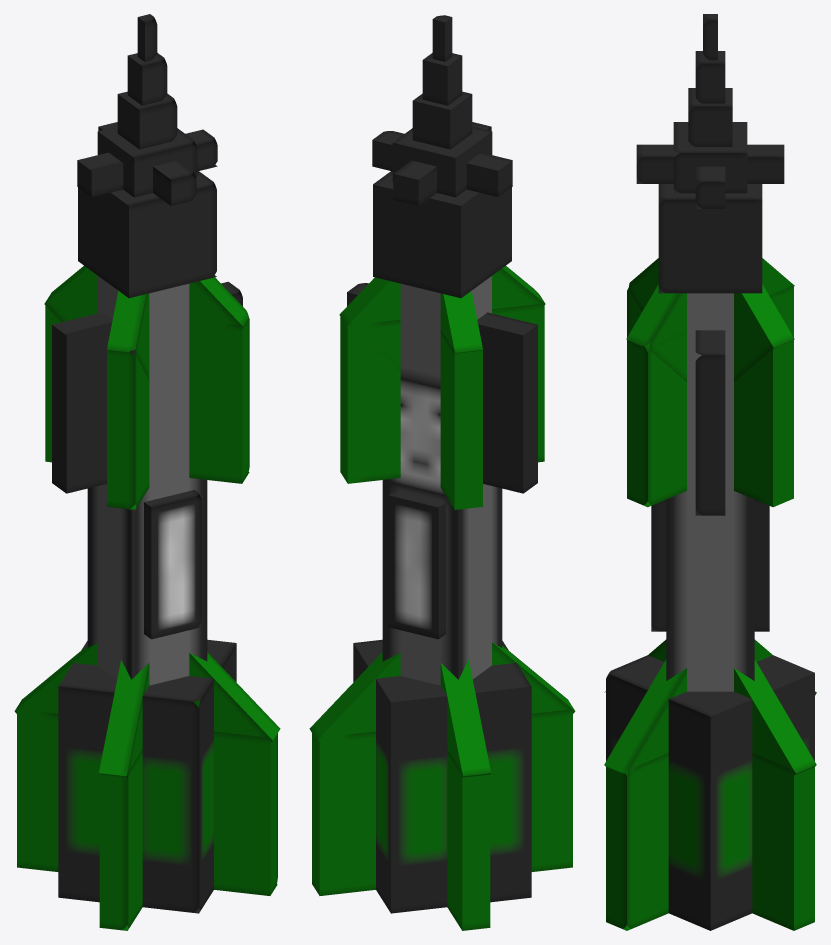
The model's file is missile_debilitation.obj.
The picture shows the model from 3 angles, left to right: view 1: azimuth 30°, elevation 25°; view 2: azimuth 150°, elevation 25°; view 3: azimuth 270°, elevation 25°; orthographic projection.
Parts seen in each view (by area): view 1: PROPULSOR_MODULE, MAIN_MISSILE_MODULE, WING_B_B_1, WARHEAD_1, WINGTWIDTH, WING_T_B_2, SCREEN, WING_B_A_1, WING_T_A_2, WING_T_B_1, WING_B_B_2, WING_B_A_2 (+7 smaller); view 2: PROPULSOR_MODULE, MAIN_MISSILE_MODULE, WING_B_A_1, WARHEAD_1, WING_T_A_2, WINGTWIDTH, SCREEN, WING_B_B_1, WING_T_B_2, WING_B_A_2, WING_T_A_1, WING_B_B_2 (+7 smaller); view 3: PROPULSOR_MODULE, MAIN_MISSILE_MODULE, WARHEAD_1, WING_B_A_1, WING_B_B_1, WING_T_B_2, WING_T_A_2, WINGTWIDTH, WING_T_A_1, WING_B_B_2, WING_B_A_2, SCREEN (+7 smaller).
Boxes of the visible parts, x1=… form: PROPULSOR_MODULE: x1=58, y1=639, x2=236, y2=913; MAIN_MISSILE_MODULE: x1=87, y1=276, x2=207, y2=685; WING_B_B_1: x1=17, y1=709, x2=277, y2=895; WARHEAD_1: x1=78, y1=171, x2=216, y2=298; WINGTWIDTH: x1=52, y1=281, x2=242, y2=493; WING_T_B_2: x1=45, y1=305, x2=249, y2=483; SCREEN: x1=144, y1=490, x2=201, y2=639; WING_B_A_1: x1=99, y1=749, x2=142, y2=930; WING_T_A_2: x1=107, y1=347, x2=149, y2=509; WING_T_B_1: x1=44, y1=266, x2=248, y2=370; WING_B_B_2: x1=14, y1=642, x2=280, y2=742; WING_B_A_2: x1=99, y1=660, x2=149, y2=777; PROPULSOR_MODULE: x1=353, y1=639, x2=531, y2=913; MAIN_MISSILE_MODULE: x1=382, y1=276, x2=502, y2=685; WING_B_A_1: x1=312, y1=709, x2=572, y2=895; WARHEAD_1: x1=373, y1=171, x2=511, y2=298; WING_T_A_2: x1=340, y1=303, x2=544, y2=483; WINGTWIDTH: x1=347, y1=283, x2=537, y2=493; SCREEN: x1=388, y1=490, x2=445, y2=639; WING_B_B_1: x1=447, y1=749, x2=490, y2=930; WING_T_B_2: x1=440, y1=330, x2=482, y2=509; WING_B_A_2: x1=309, y1=642, x2=575, y2=742; WING_T_A_1: x1=339, y1=266, x2=545, y2=369; WING_B_B_2: x1=440, y1=660, x2=490, y2=777; PROPULSOR_MODULE: x1=606, y1=655, x2=814, y2=930; MAIN_MISSILE_MODULE: x1=666, y1=293, x2=754, y2=691; WARHEAD_1: x1=658, y1=184, x2=762, y2=293; WING_B_A_1: x1=752, y1=753, x2=814, y2=930; WING_B_B_1: x1=606, y1=753, x2=668, y2=930; WING_T_B_2: x1=627, y1=285, x2=793, y2=507; WING_T_A_2: x1=627, y1=287, x2=793, y2=507; WINGTWIDTH: x1=695, y1=330, x2=725, y2=515; WING_T_A_1: x1=629, y1=258, x2=794, y2=381; WING_B_B_2: x1=604, y1=639, x2=816, y2=777; WING_B_A_2: x1=604, y1=639, x2=816, y2=775; SCREEN: x1=651, y1=500, x2=769, y2=631.
Size of the model in its own units: 0.9009 by 4.06 by 0.9009.
